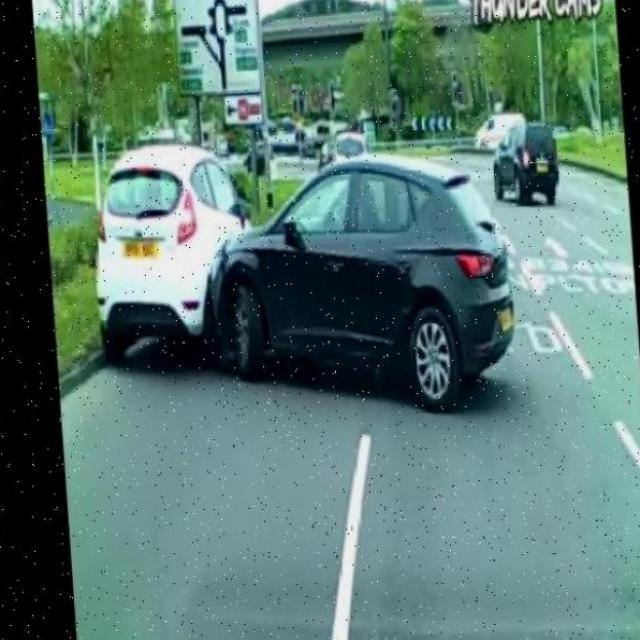accident: (87, 118, 522, 425)
